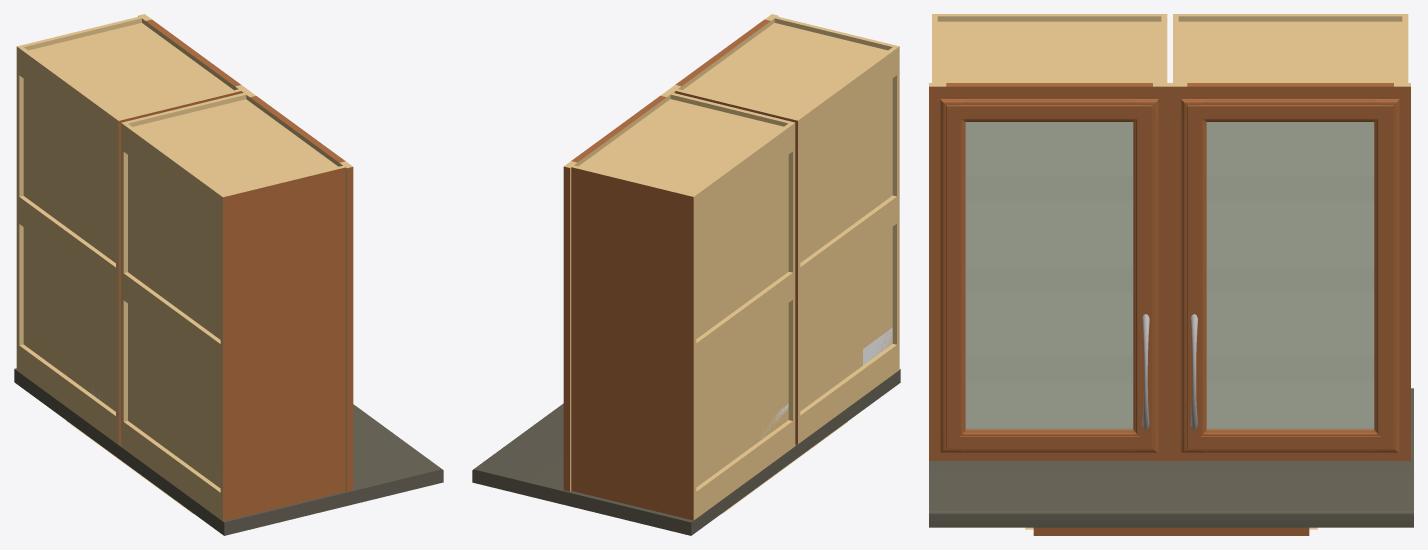
The model's file is kitchen_dishwasher_top.dae.
3 views of the same model, side by side, from view 1: azimuth 30°, elevation 25°; view 2: azimuth 150°, elevation 25°; view 3: azimuth 270°, elevation 25° (orthographic). The views are drawn at different scales.
Visible parts, largest first — view 1: S_2 (×6), BV_3 (×2), TOP_2 (×2), HRB_3 (×6), group_0, ST_3 (×2), HR_2 (×2); view 2: S_2 (×6), BV_3 (×2), TOP_2 (×2), HRB_3 (×6), group_0, ST_3 (×2), HR_2 (×2), image_0; view 3: LB_31_CC_1 (×2), RB_31_CC_1 (×2), group_0, TOP_2 (×2), ST_3 (×4), HR_2 (×4), LB_31_CL_1 (×2), RB_31_CR_1 (×2), RB_31_CL_1 (×2), LB_31_CR_1 (×2), LB_31_BC_1, RB_31_BC_1 (+10 smaller).
Boxes of the visible parts, x1,y1,x2,y2 form: S_2 (×6): [16, 16, 345, 521]; BV_3 (×2): [23, 79, 220, 488]; TOP_2 (×2): [28, 23, 337, 194]; HRB_3 (×6): [19, 47, 224, 519]; group_0: [14, 368, 443, 535]; ST_3 (×2): [339, 161, 353, 492]; HR_2 (×2): [146, 19, 345, 162]; S_2 (×6): [571, 16, 899, 520]; BV_3 (×2): [696, 78, 892, 487]; TOP_2 (×2): [578, 23, 887, 193]; HRB_3 (×6): [692, 47, 896, 518]; group_0: [472, 369, 900, 535]; ST_3 (×2): [563, 161, 577, 491]; HR_2 (×2): [571, 19, 770, 162]; image_0: [863, 328, 892, 365]; LB_31_CC_1 (×2): [967, 123, 1131, 427]; RB_31_CC_1 (×2): [1208, 123, 1372, 427]; group_0: [929, 388, 1413, 527]; TOP_2 (×2): [937, 21, 1402, 82]; ST_3 (×4): [929, 86, 1410, 460]; HR_2 (×4): [946, 83, 1393, 460]; LB_31_CL_1 (×2): [940, 123, 967, 429]; RB_31_CR_1 (×2): [1373, 123, 1399, 429]; RB_31_CL_1 (×2): [1181, 123, 1208, 429]; LB_31_CR_1 (×2): [1132, 123, 1158, 429]; LB_31_BC_1: [967, 429, 1131, 452]; RB_31_BC_1: [1208, 429, 1372, 452].
Bounding box in the file's own units: 25.5 × 42.25 × 39.
